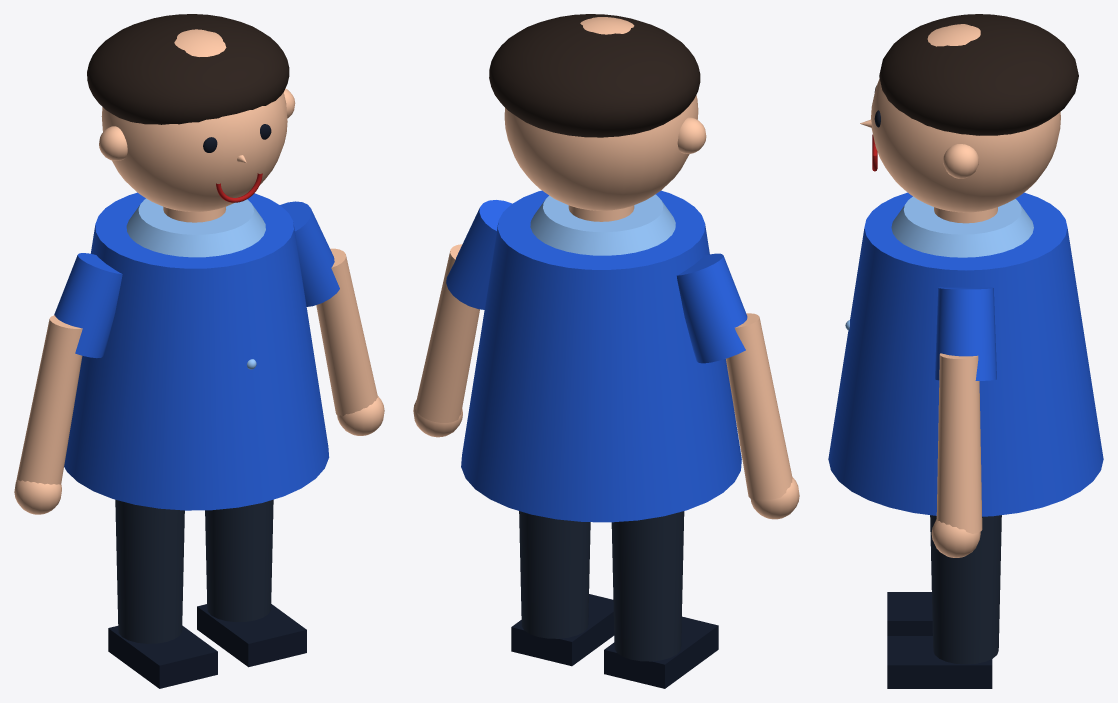
The model's file is avatar.glb.
3 renders of one model, left to right at view 1: azimuth 30°, elevation 25°; view 2: azimuth 150°, elevation 25°; view 3: azimuth 270°, elevation 25°, orthographic. The views are drawn at different scales.
Parts seen in each view (by area): view 1: Torso, HairCap, Head, LeftLeg, RightLeg, LeftArm, RightArm, ShirtCollar, LeftSleeve, LeftShoe, RightShoe, RightSleeve (+4 smaller); view 2: Torso, HairCap, Head, LeftLeg, RightLeg, LeftArm, RightArm, ShirtCollar, LeftSleeve, LeftShoe, RightSleeve, RightShoe (+4 smaller); view 3: Torso, HairCap, Head, RightLeg, RightArm, ShirtCollar, RightSleeve, RightShoe, LeftShoe, RightHand, RightEar, Neck.
Part boxes in pixels (<box>): Torso: <box>64,192,329,510</box>; HairCap: <box>87,14,289,124</box>; Head: <box>101,29,287,211</box>; LeftLeg: <box>115,499,184,643</box>; RightLeg: <box>205,499,273,622</box>; LeftArm: <box>16,315,82,484</box>; RightArm: <box>316,248,377,416</box>; ShirtCollar: <box>126,198,265,257</box>; LeftSleeve: <box>54,253,122,358</box>; LeftShoe: <box>108,625,217,688</box>; RightShoe: <box>197,604,306,667</box>; RightSleeve: <box>280,201,339,306</box>; Torso: <box>461,190,741,522</box>; HairCap: <box>489,14,700,137</box>; Head: <box>504,17,698,210</box>; LeftLeg: <box>611,511,684,661</box>; RightLeg: <box>519,511,590,638</box>; LeftArm: <box>726,313,792,500</box>; RightArm: <box>415,244,479,422</box>; ShirtCollar: <box>530,194,675,255</box>; LeftSleeve: <box>677,253,747,363</box>; LeftShoe: <box>604,616,718,688</box>; RightSleeve: <box>446,200,512,309</box>; RightShoe: <box>511,594,614,666</box>; Torso: <box>828,192,1103,516</box>; HairCap: <box>879,14,1078,135</box>; Head: <box>871,24,1060,212</box>; RightLeg: <box>930,515,1001,664</box>; RightArm: <box>936,353,982,533</box>; ShirtCollar: <box>891,196,1033,257</box>; RightSleeve: <box>935,287,996,380</box>; RightShoe: <box>887,636,992,688</box>; LeftShoe: <box>887,592,932,635</box>; RightHand: <box>931,519,980,557</box>; RightEar: <box>943,144,978,178</box>; Neck: <box>934,207,997,223</box>.
Size of the model in its own units: 1.31 by 2.09 by 0.84.
